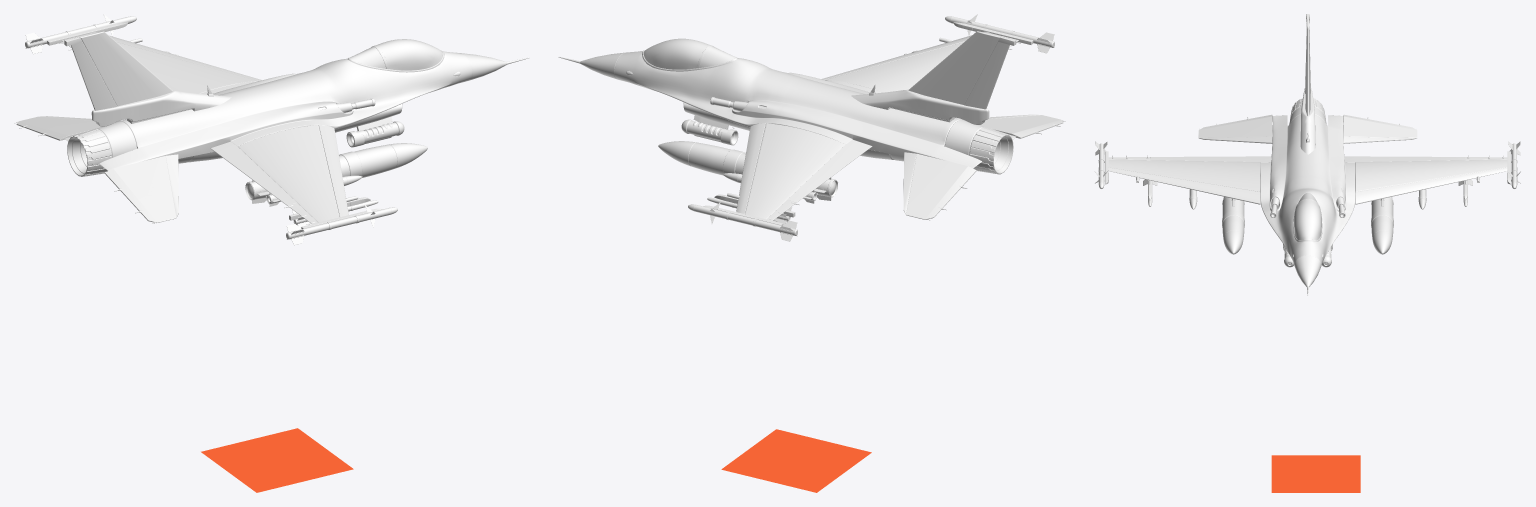
File: jet.glb
3 renders of one model, left to right at view 1: azimuth 30°, elevation 25°; view 2: azimuth 150°, elevation 25°; view 3: azimuth 270°, elevation 25°, orthographic. The views are drawn at different scales.
Parts seen in each view (by area): view 1: part_b.001, Plane, part_a.001, missiles_big_r.002, glass.002, missiles_mid_r2.002, missiles_mid_l2.002; view 2: part_b.001, Plane, part_a.001, missiles_big_l.002, glass.002, missiles_mid_l2.002, missiles_mid_r2.002; view 3: part_b.001, Plane, part_a.001, missiles_big_l.002, missiles_big_r.002, glass.002.
Part boxes in pixels (box(x1,y1,x2,y2)): part_b.001: box(14, 22, 529, 228); Plane: box(201, 428, 353, 492); part_a.001: box(91, 47, 404, 163); missiles_big_r.002: box(245, 143, 427, 203); glass.002: box(375, 39, 442, 70); missiles_mid_r2.002: box(286, 205, 397, 245); missiles_mid_l2.002: box(25, 14, 136, 53); part_b.001: box(558, 22, 1065, 225); Plane: box(721, 429, 871, 492); part_a.001: box(681, 46, 989, 161); missiles_big_l.002: box(658, 141, 838, 200); glass.002: box(643, 38, 710, 69); missiles_mid_l2.002: box(688, 202, 797, 241); missiles_mid_r2.002: box(945, 14, 1054, 53); part_b.001: box(1104, 14, 1511, 295); Plane: box(1271, 455, 1360, 492); part_a.001: box(1149, 88, 1466, 267); missiles_big_l.002: box(1371, 196, 1393, 254); missiles_big_r.002: box(1222, 196, 1244, 254); glass.002: box(1294, 199, 1321, 239).
Bounding box in the file's own units: 9.54 × 9.36 × 9.62.
